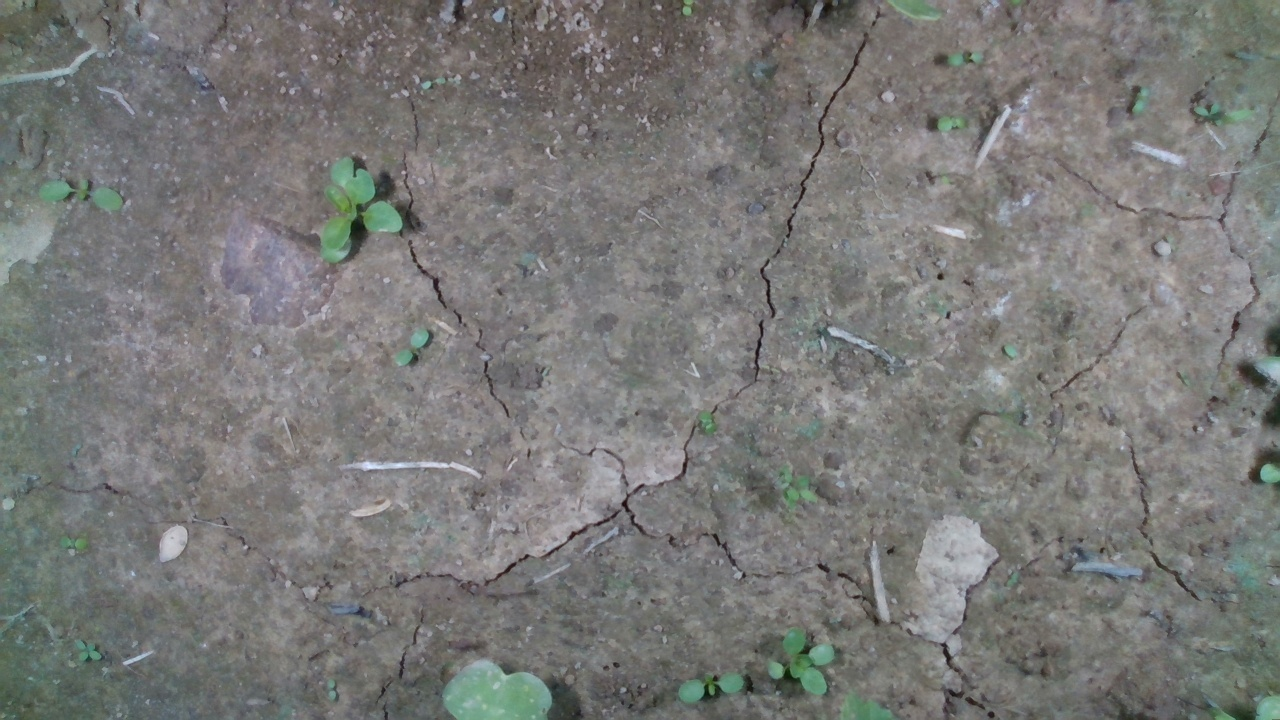weed: (764, 626, 837, 695), (34, 179, 125, 212), (675, 671, 745, 703), (391, 326, 431, 367), (946, 51, 986, 68), (935, 114, 968, 132), (695, 410, 717, 434)
